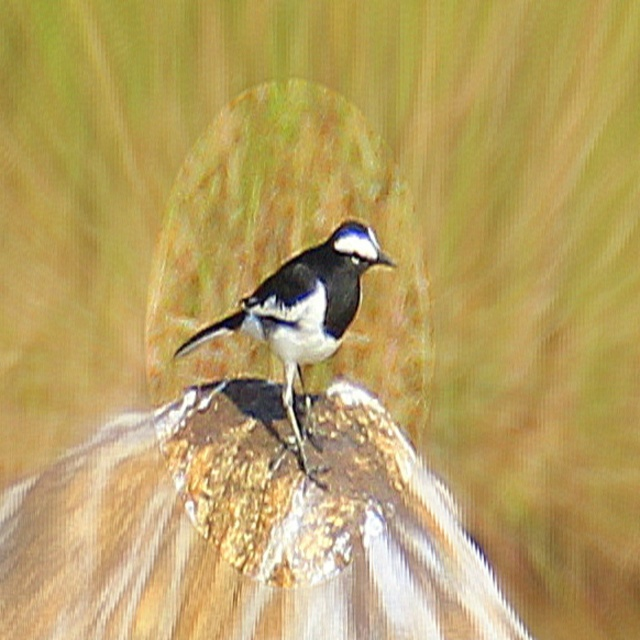Magpie: (171, 220, 397, 498)
